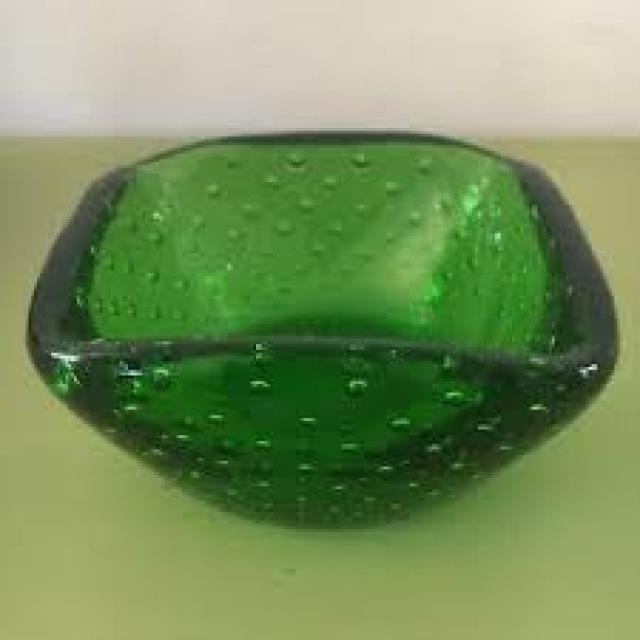glass: (23, 125, 617, 526)
